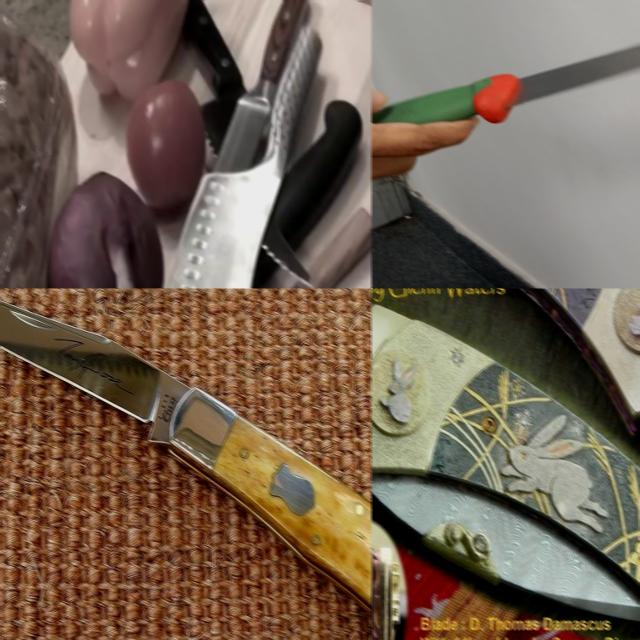Knife: (370, 45, 640, 124)
